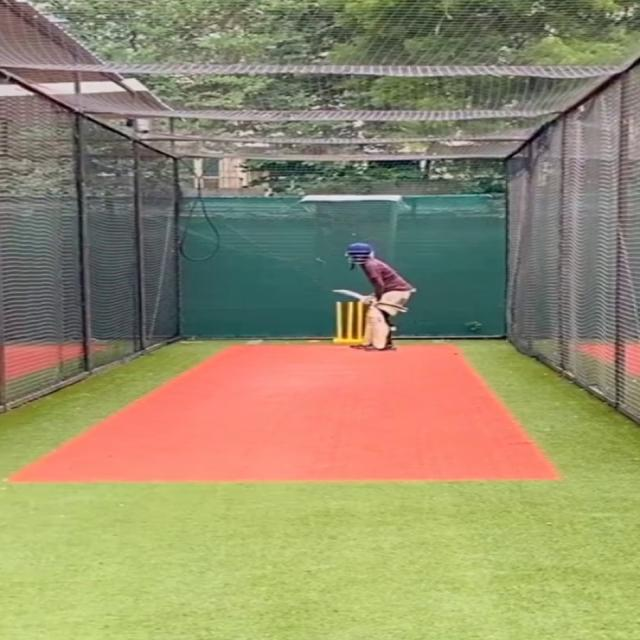stump: (331, 300, 364, 344)
